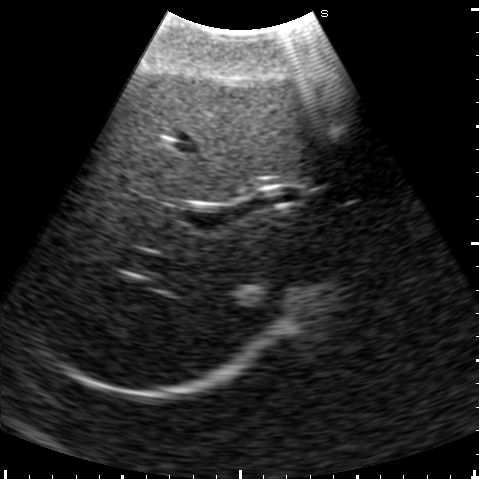S3: (295, 76, 408, 203)
S4: (120, 73, 335, 202)
Tumor: (234, 286, 262, 304), (329, 121, 343, 137)
